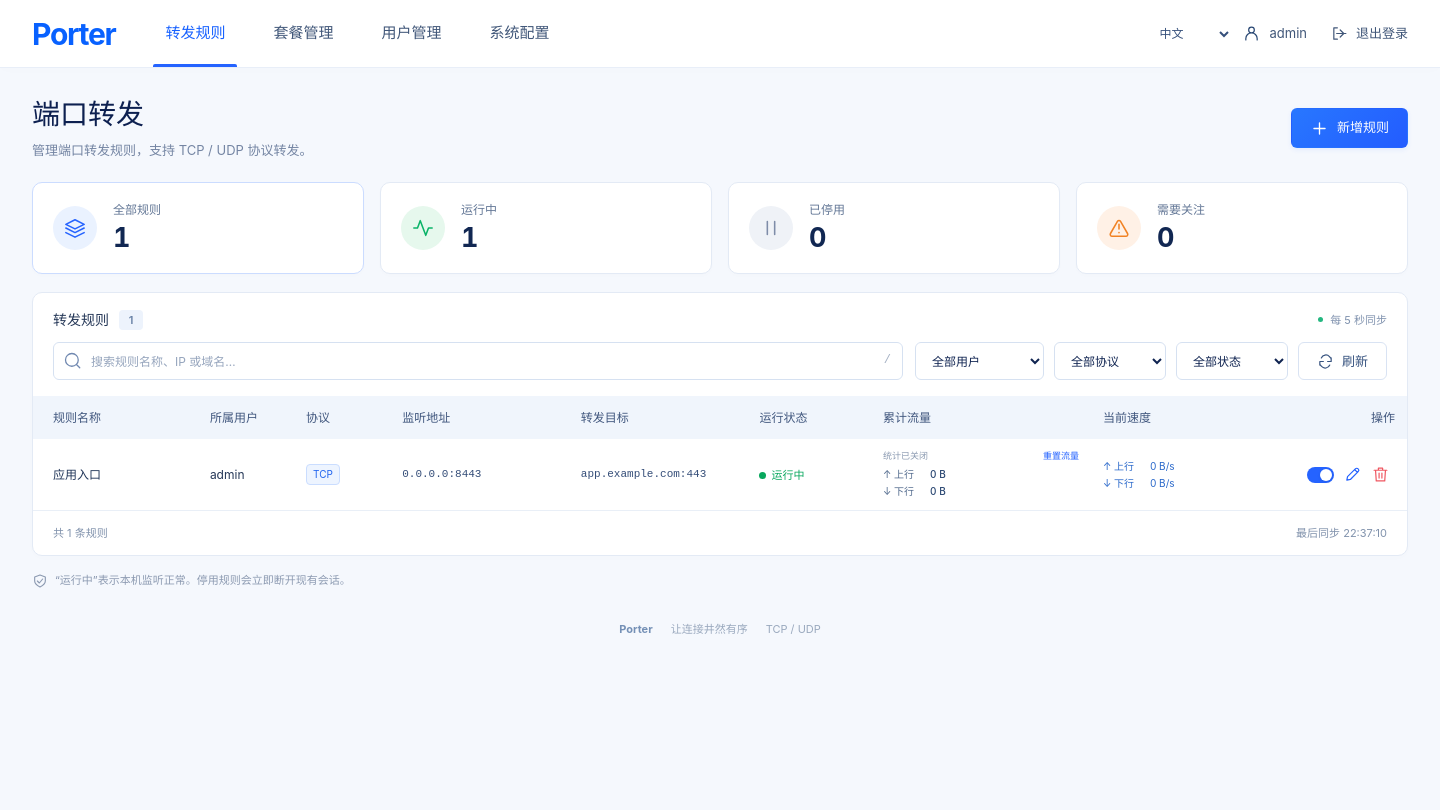
Test case: 转发规则管理 › 字段冲突保留编辑内容并聚焦错误字段，版本冲突有明确提示
Click the button named "编辑 应用入口".
click(1352, 474)  # box [1339, 460, 1365, 488]
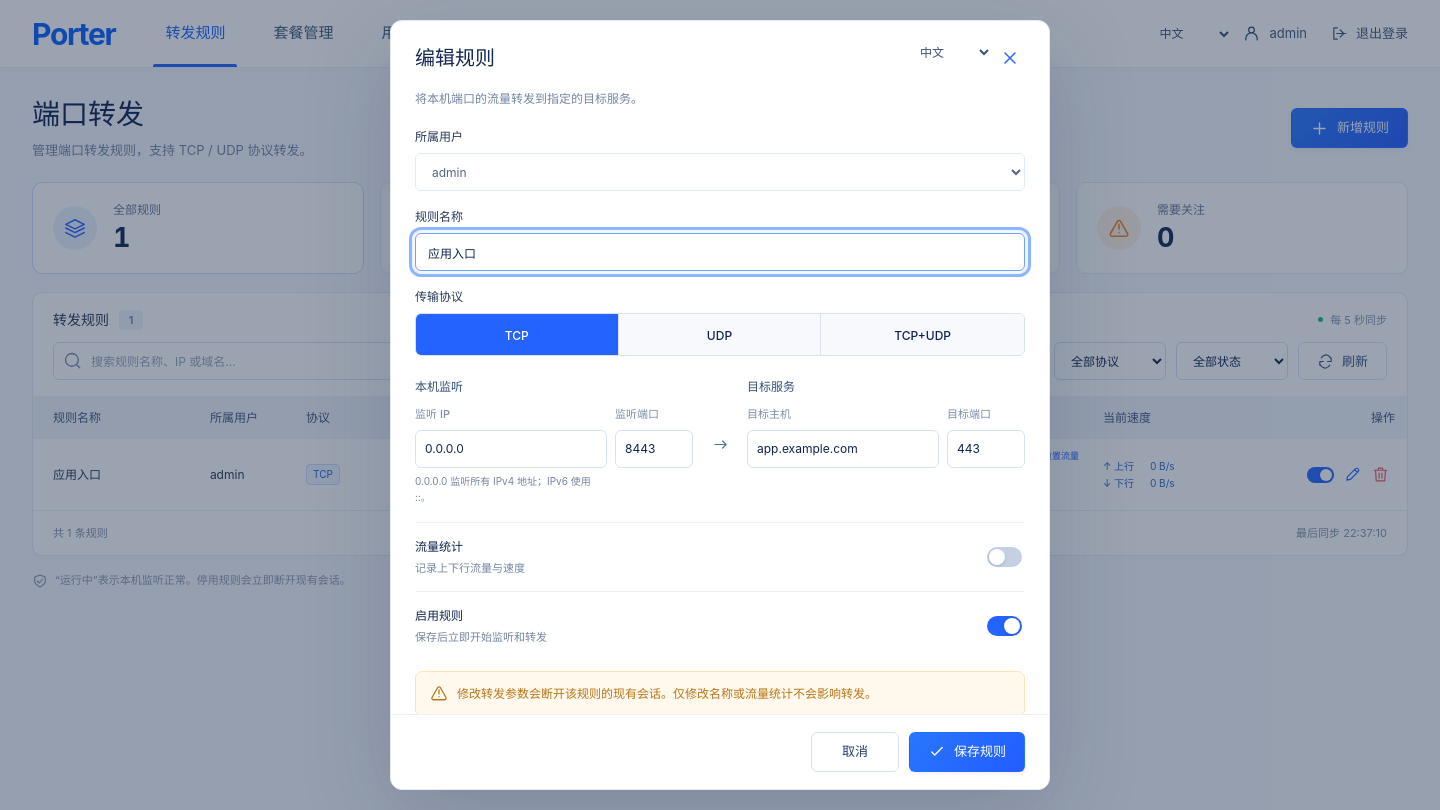
Replace the text in the field with id "rule-name" with "新的名称" at (720, 252), box [415, 233, 1025, 271]
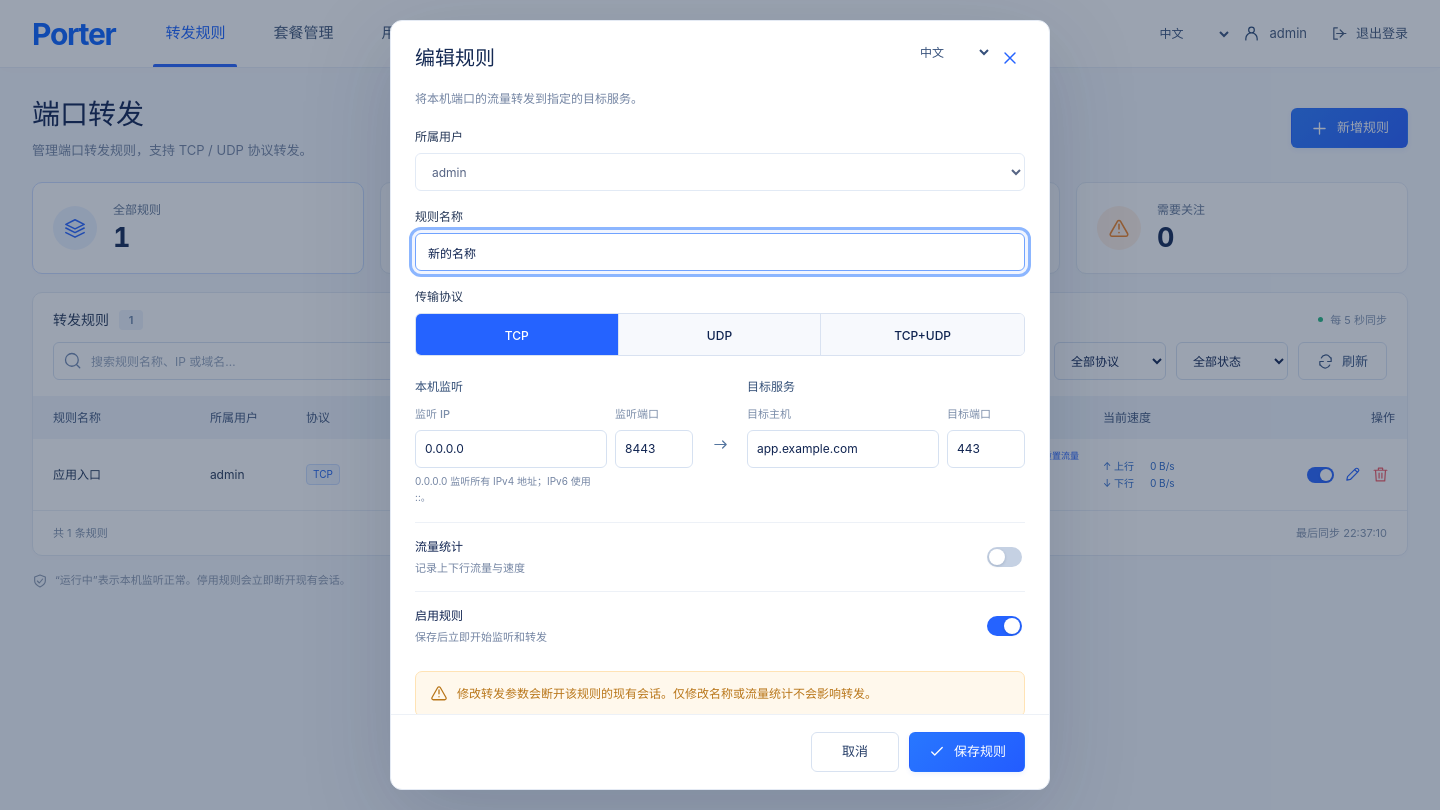
Submit the form with class "editor", box [391, 21, 1049, 789]
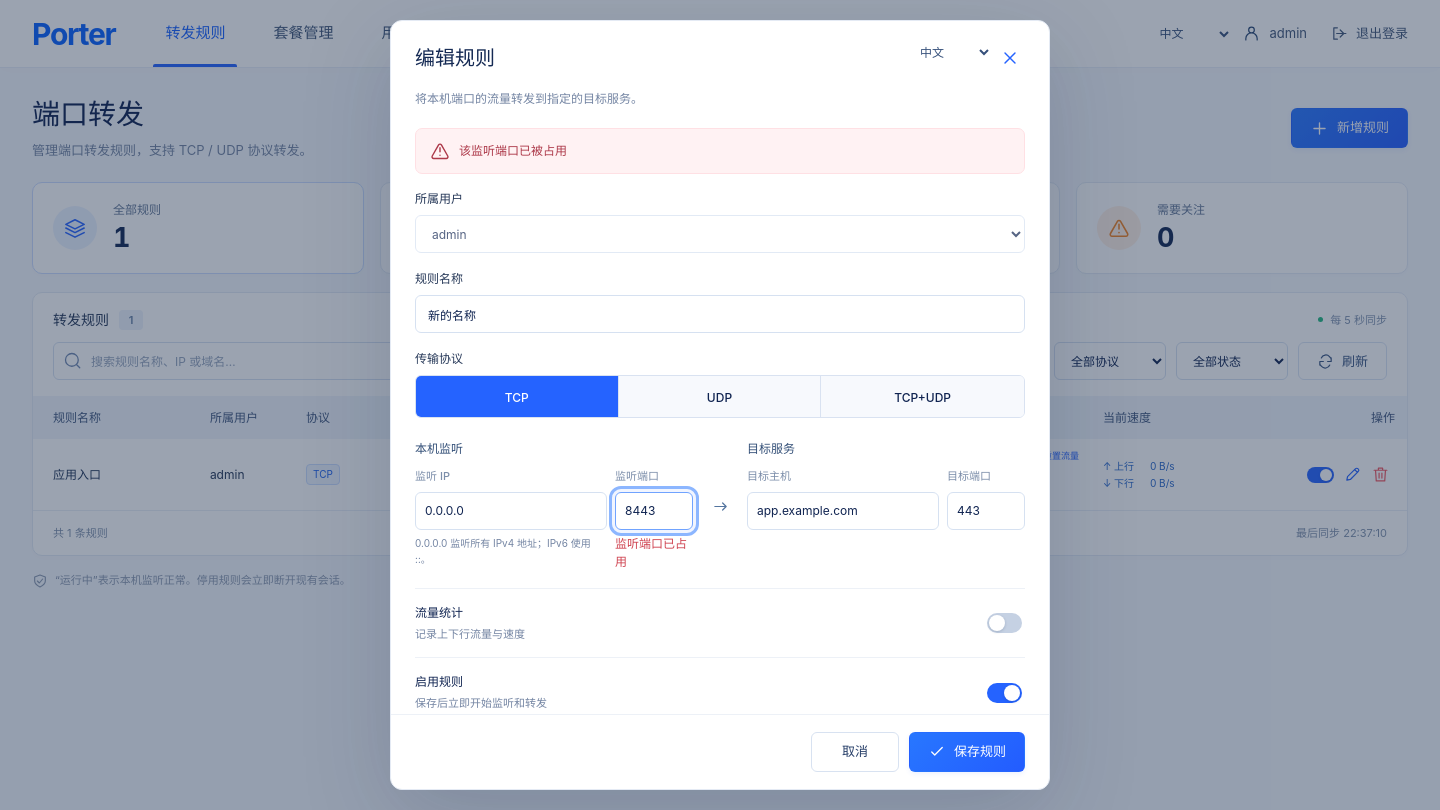
Expected: the text "监听端口已占用" is shown, [615, 535, 693, 571]
Submit the form with class "editor", box [391, 21, 1049, 789]
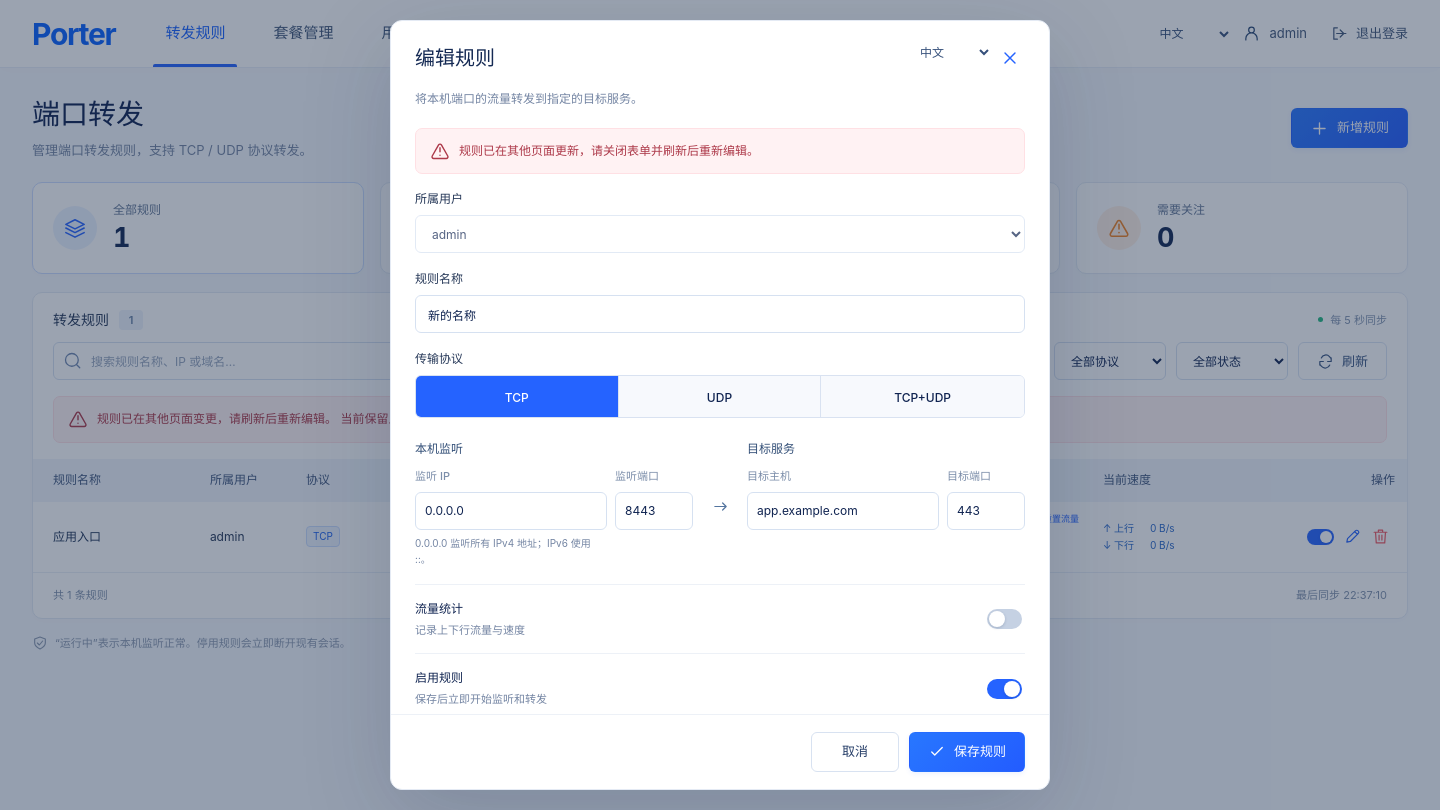
Expected: the dialog shows "规则已在其他页面更新", [459, 143, 759, 158]
